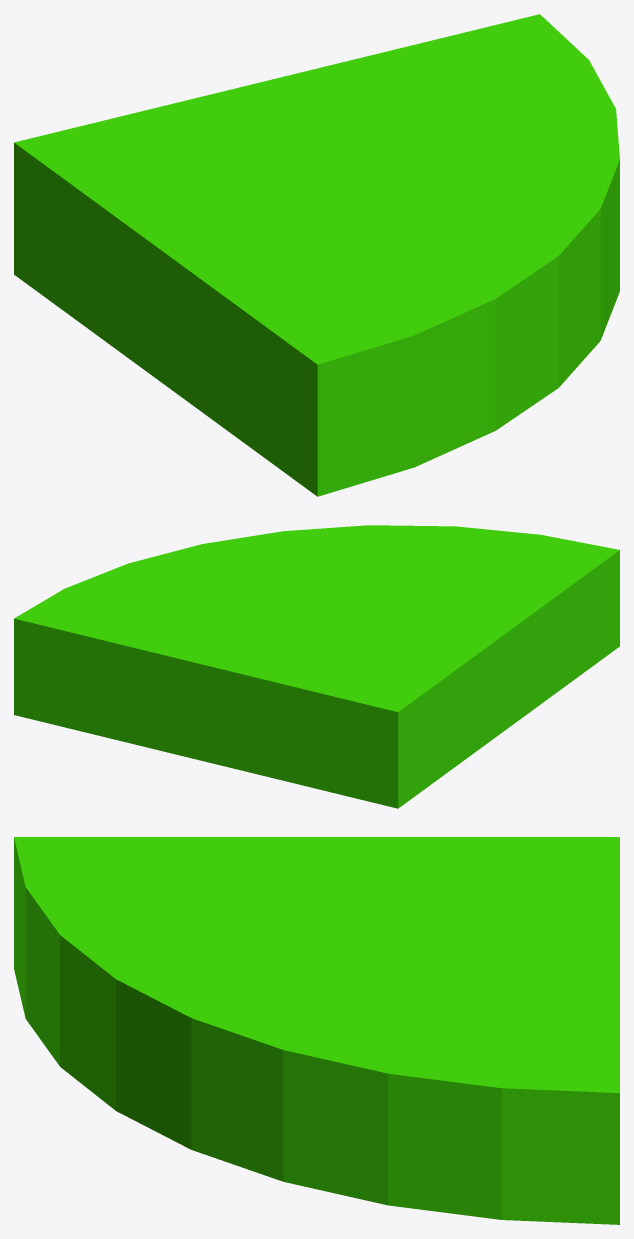
The model's file is GreenButton.fbx.
3 views of the same model, one above another, from view 1: azimuth 30°, elevation 25°; view 2: azimuth 150°, elevation 25°; view 3: azimuth 270°, elevation 25° (orthographic). The views are drawn at different scales.
Parts seen in each view (by area): view 1: Cylinder.001; view 2: Cylinder.001; view 3: Cylinder.001.
Boxes of the visible parts, x1=… form: Cylinder.001: x1=14, y1=14, x2=619, y2=496; Cylinder.001: x1=14, y1=525, x2=619, y2=808; Cylinder.001: x1=14, y1=837, x2=619, y2=1224.
Bounding box in the file's own units: 100 × 24 × 100.
